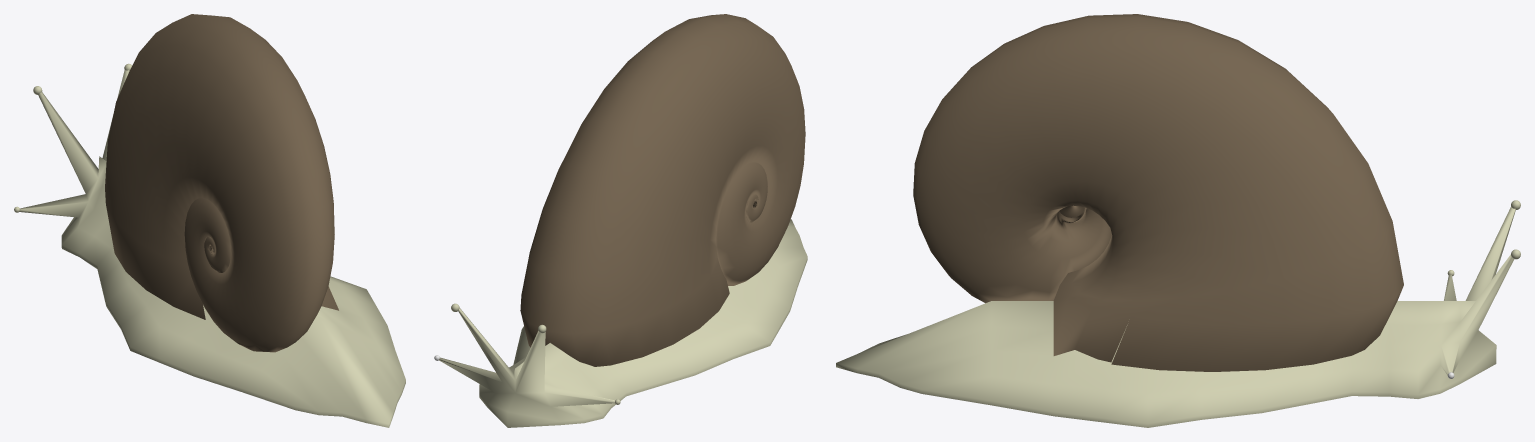
Rendered from snail2.fbx.
3 renders of one model, left to right at view 1: azimuth 30°, elevation 25°; view 2: azimuth 150°, elevation 25°; view 3: azimuth 270°, elevation 25°, orthographic. The views are drawn at different scales.
Visible parts, largest first — view 1: Circle; view 2: Circle; view 3: Circle.
Boxes of the visible parts, x1,y1,x2,y2 form: Circle: (14,14,405,427); Circle: (439,14,807,427); Circle: (836,14,1520,427).
Bounding box in the file's own units: 23.05 × 28.49 × 52.12.
